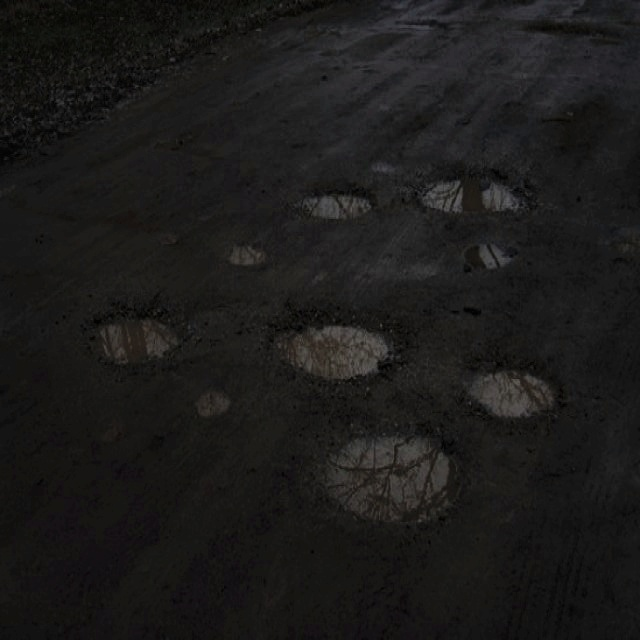Pothole: (310, 419, 469, 528), (266, 304, 412, 380), (461, 354, 572, 422), (85, 302, 189, 368), (417, 166, 533, 219), (295, 177, 380, 219), (461, 238, 522, 278), (226, 238, 275, 272)
